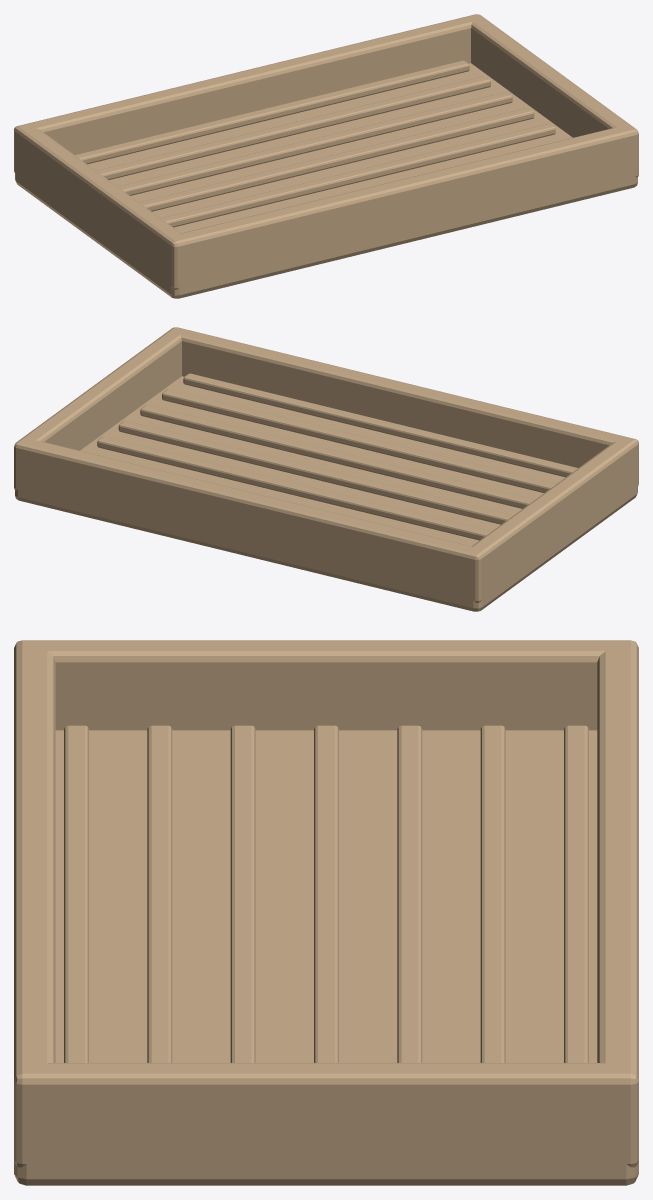
File: Tray_Bamboo.fbx
The picture shows the model from 3 angles, top to bottom: view 1: azimuth 30°, elevation 25°; view 2: azimuth 150°, elevation 25°; view 3: azimuth 270°, elevation 25°; orthographic projection. The views are drawn at different scales.
Visible parts, largest first — view 1: TrayBase, TrayRimLongA, TrayRimLongB, TrayRimShortA, TrayRimShortB, TraySlat.006, TraySlat.002, TraySlat.003, TraySlat.004, TraySlat.005; view 2: TrayBase, TrayRimLongB, TrayRimLongA, TrayRimShortA, TrayRimShortB, TraySlat, TraySlat.002, TraySlat.003, TraySlat.004, TraySlat.001; view 3: TrayBase, TrayRimShortB, TrayRimShortA, TrayRimLongB, TrayRimLongA, TraySlat.001, TraySlat.002, TraySlat.004, TraySlat.005, TraySlat, TraySlat.003, TraySlat.006.
Boxes of the visible parts, x1,y1,x2,y2 form: TrayBase: (15,63,637,298); TrayRimLongA: (165,127,638,289); TrayRimLongB: (14,14,485,176); TrayRimShortA: (14,128,188,289); TrayRimShortB: (471,19,638,178); TraySlat.006: (75,60,469,164); TraySlat.002: (161,123,555,227); TraySlat.003: (139,108,534,211); TraySlat.004: (118,92,512,195); TraySlat.005: (96,76,490,179); TrayBase: (15,376,637,611); TrayRimLongB: (14,437,487,602); TrayRimLongA: (180,330,638,486); TrayRimShortA: (464,436,638,602); TrayRimShortB: (14,327,187,491); TraySlat: (183,373,577,477); TraySlat.002: (140,405,534,508); TraySlat.003: (118,421,513,524); TraySlat.004: (97,436,491,540); TraySlat.001: (162,389,556,492); TrayBase: (14,730,638,1185); TrayRimShortB: (14,1063,638,1167); TrayRimShortA: (14,640,605,730); TrayRimLongB: (597,640,638,1166); TrayRimLongA: (14,651,55,1167); TraySlat.001: (147,725,172,1062); TraySlat.002: (230,725,255,1062); TraySlat.004: (397,725,422,1062); TraySlat.005: (480,725,505,1062); TraySlat: (64,725,88,1062); TraySlat.003: (314,725,338,1062); TraySlat.006: (564,725,588,1062).
Bounding box in the file's own units: 0.5 × 0.06 × 0.3.
